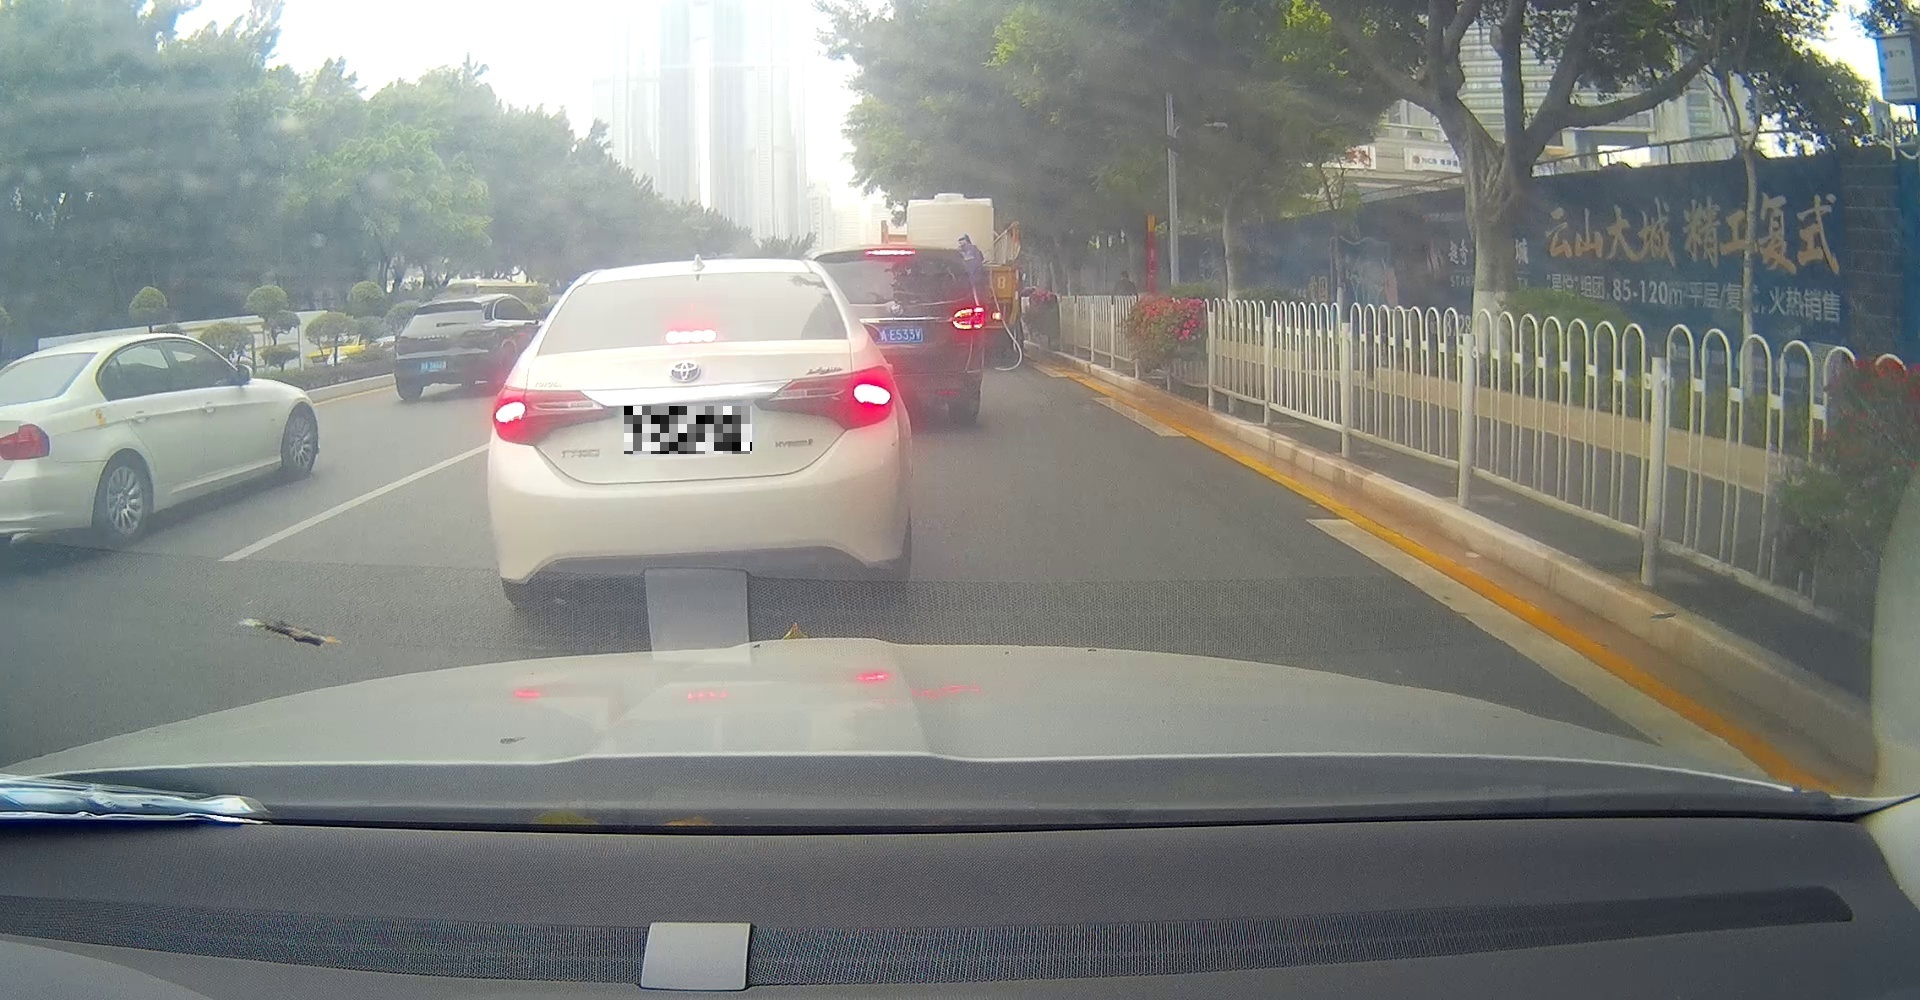L_light: (491, 385, 620, 447)
R_light: (754, 365, 897, 430)
T_light: (665, 329, 717, 344)
day-brake: (486, 258, 914, 612)
plate_1: (623, 406, 752, 454)
